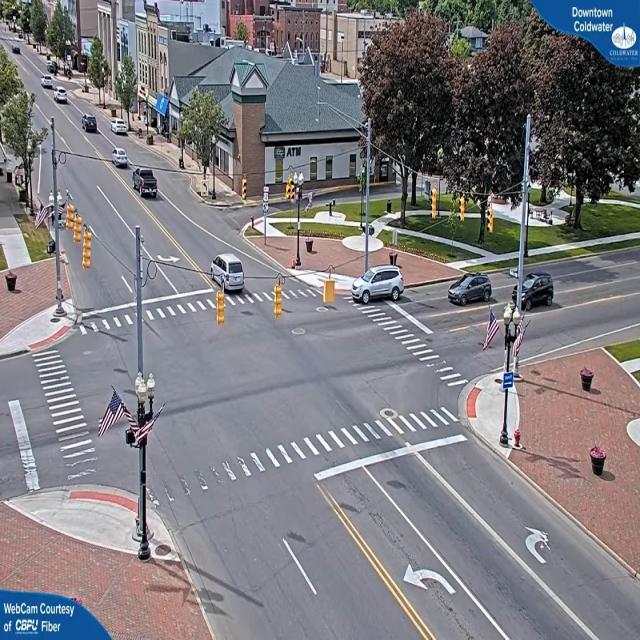car: (357, 269, 405, 306), (447, 273, 494, 308), (211, 254, 247, 292), (528, 270, 556, 310), (132, 168, 159, 197), (112, 150, 132, 169), (111, 120, 130, 138), (83, 115, 99, 134), (54, 88, 68, 104), (42, 76, 54, 90)
